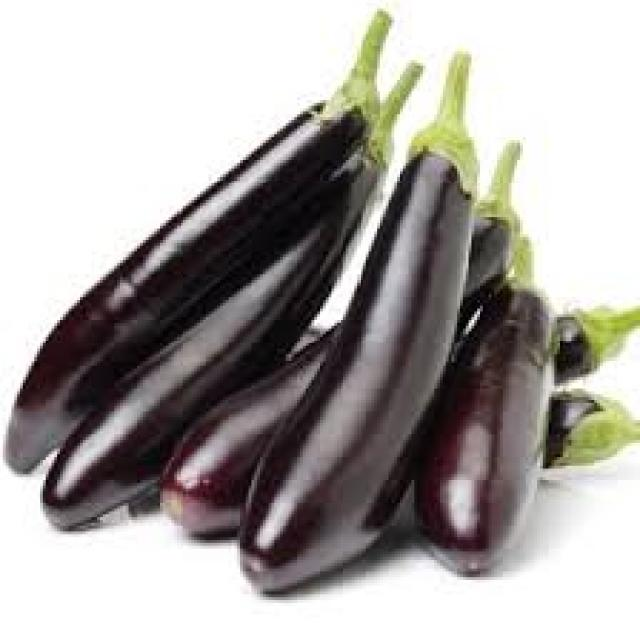eggplant: (2, 8, 396, 482), (240, 54, 479, 593)
